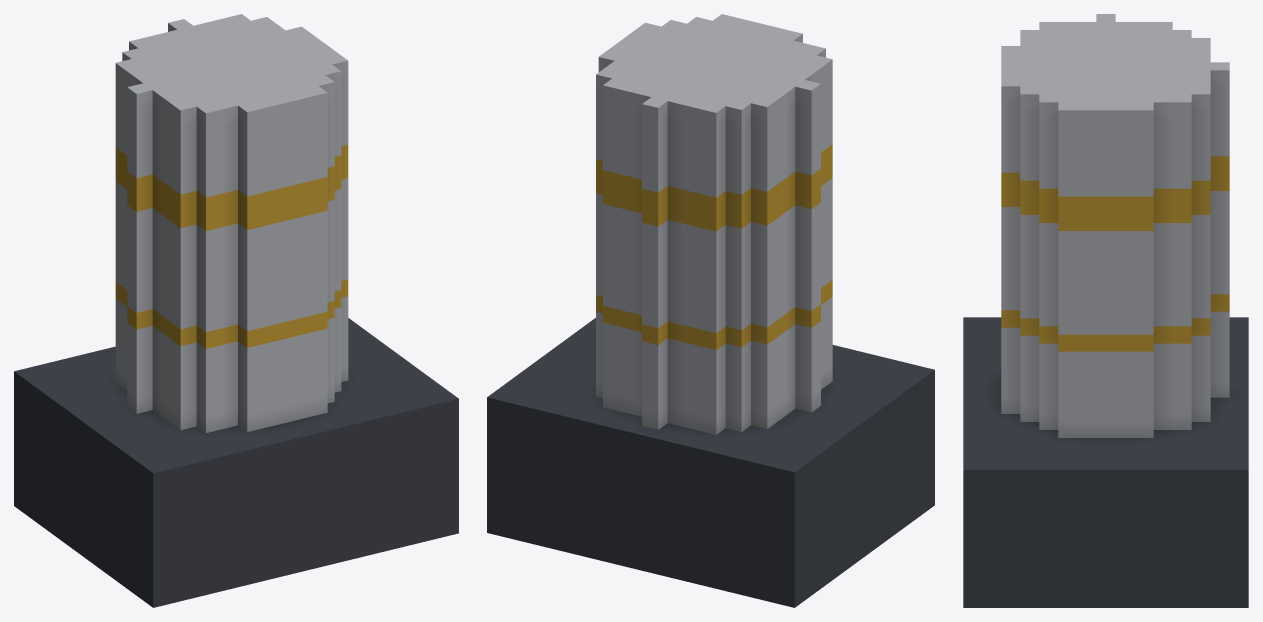
Rendered from inst_neutron.glb.
The picture shows the model from 3 angles, left to right: view 1: azimuth 30°, elevation 25°; view 2: azimuth 150°, elevation 25°; view 3: azimuth 270°, elevation 25°; orthographic projection. The views are drawn at different scales.
Parts seen in each view (by area): view 1: inst_neutron; view 2: inst_neutron; view 3: inst_neutron.
Boxes of the visible parts, x1,y1,x2,y2 form: inst_neutron: (14,14,458,607); inst_neutron: (487,14,934,607); inst_neutron: (963,14,1248,607).
Size of the model in its own units: 0.2969 by 0.4219 by 0.2344.
